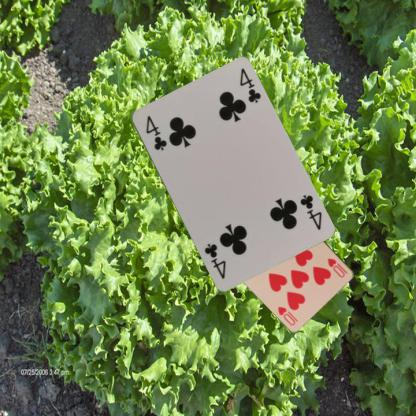10h: (325, 255, 346, 279)
4c: (297, 192, 323, 232), (143, 113, 168, 152)
